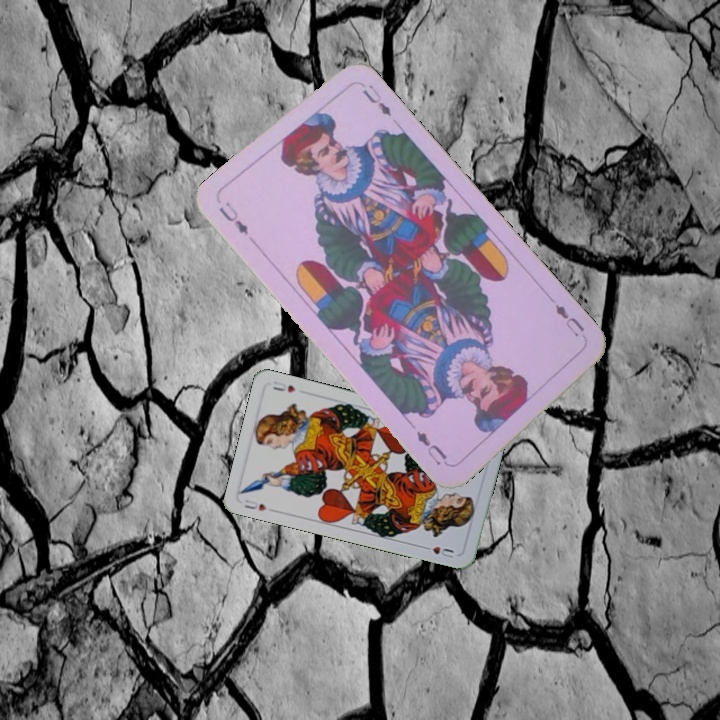EU: (215, 197, 252, 238), (550, 300, 587, 340)
HU: (240, 496, 270, 514)
